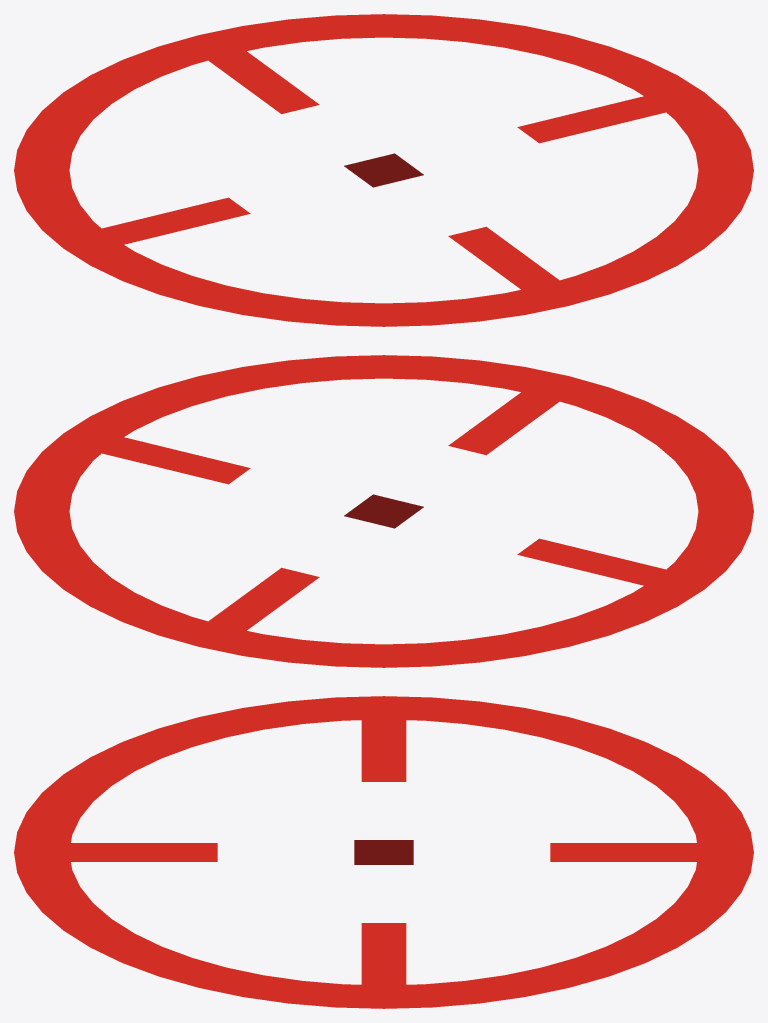
File: fiend_bolt_mark.glb
The picture shows the model from 3 angles, top to bottom: view 1: azimuth 30°, elevation 25°; view 2: azimuth 150°, elevation 25°; view 3: azimuth 270°, elevation 25°; orthographic projection.
Visible parts, largest first — view 1: fiend_bolt_mark; view 2: fiend_bolt_mark; view 3: fiend_bolt_mark.
Boxes of the visible parts, bbox=[...] form: fiend_bolt_mark: bbox=[14, 14, 753, 326]; fiend_bolt_mark: bbox=[14, 355, 753, 667]; fiend_bolt_mark: bbox=[14, 696, 753, 1008].
Bounding box in the file's own units: 2 × 0 × 2.
1 material, 1 textured.
